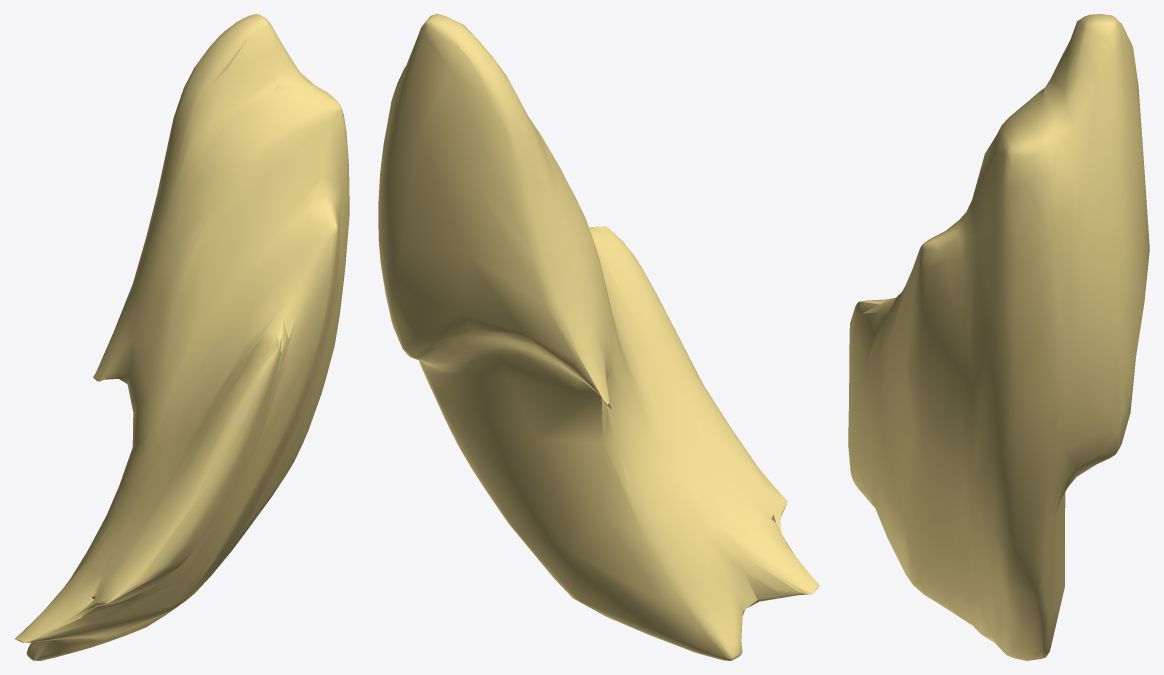
The model's file is fma73078_fj7558.glb.
3 views of the same model, side by side, from view 1: azimuth 30°, elevation 25°; view 2: azimuth 150°, elevation 25°; view 3: azimuth 270°, elevation 25° (orthographic). The views are drawn at different scales.
Parts seen in each view (by area): view 1: FMA73078_FJ7558; view 2: FMA73078_FJ7558; view 3: FMA73078_FJ7558.
Part boxes in pixels (box(x1,y1,x2,y2)): FMA73078_FJ7558: box(14, 14, 349, 660); FMA73078_FJ7558: box(378, 14, 819, 660); FMA73078_FJ7558: box(848, 14, 1149, 660).
Bounding box in the file's own units: 0.00947 × 0.0141 × 0.00518.
